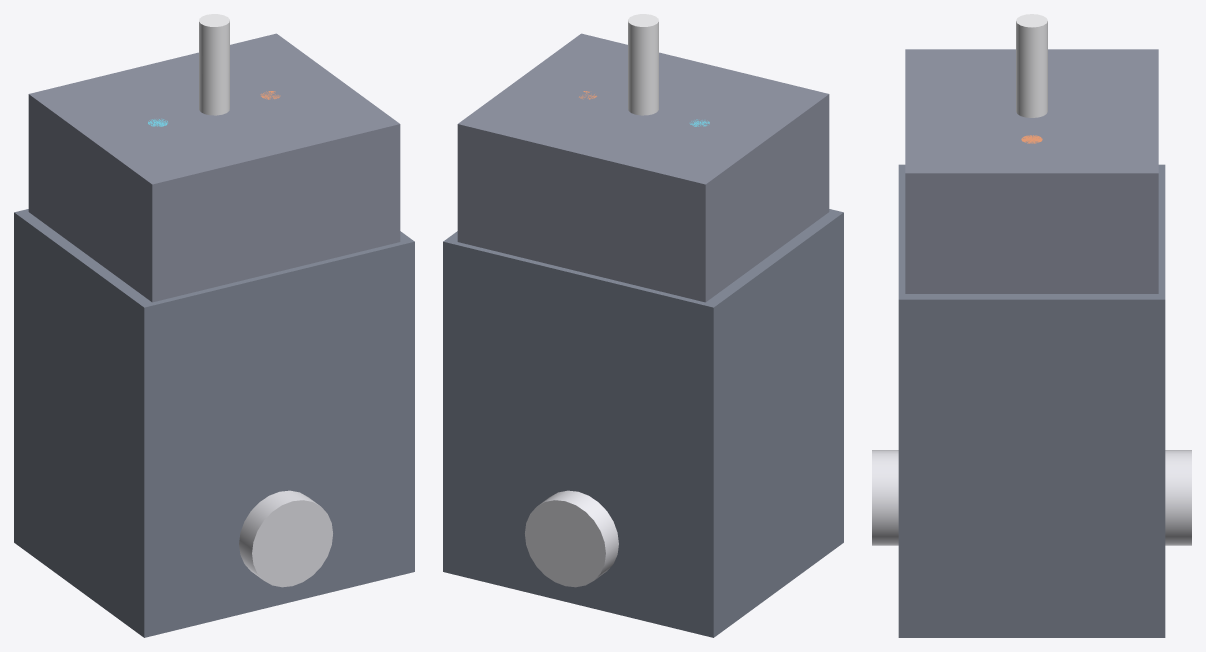
Rendered from single_cylinder_engine.glb.
The picture shows the model from 3 angles, left to right: view 1: azimuth 30°, elevation 25°; view 2: azimuth 150°, elevation 25°; view 3: azimuth 270°, elevation 25°; orthographic projection. The views are drawn at different scales.
Parts seen in each view (by area): view 1: EngineBlock_Crankcase, CylinderHead, Crankshaft, SparkPlug; view 2: EngineBlock_Crankcase, CylinderHead, Crankshaft, SparkPlug; view 3: EngineBlock_Crankcase, CylinderHead, Crankshaft, SparkPlug.
Boxes of the visible parts, left/top/right/bottom form: EngineBlock_Crankcase: left=14, top=209, right=414, bottom=637; CylinderHead: left=28, top=33, right=400, bottom=302; Crankshaft: left=239, top=490, right=332, bottom=587; SparkPlug: left=199, top=14, right=229, bottom=115; EngineBlock_Crankcase: left=443, top=209, right=843, bottom=637; CylinderHead: left=457, top=33, right=829, bottom=302; Crankshaft: left=525, top=490, right=618, bottom=587; SparkPlug: left=628, top=14, right=658, bottom=115; EngineBlock_Crankcase: left=898, top=164, right=1165, bottom=637; CylinderHead: left=905, top=49, right=1158, bottom=293; Crankshaft: left=872, top=450, right=1191, bottom=545; SparkPlug: left=1016, top=14, right=1047, bottom=117.
Bounding box in the file's own units: 1.2 × 2.27 × 1.2.
